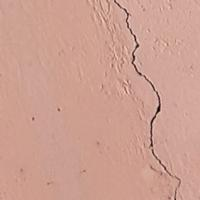crack: (101, 0, 199, 199)
